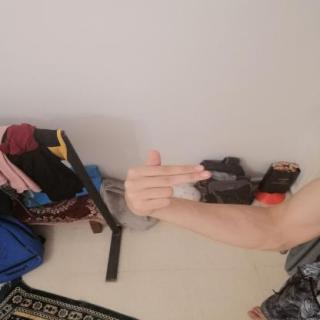GHAYN: (116, 144, 218, 221)
